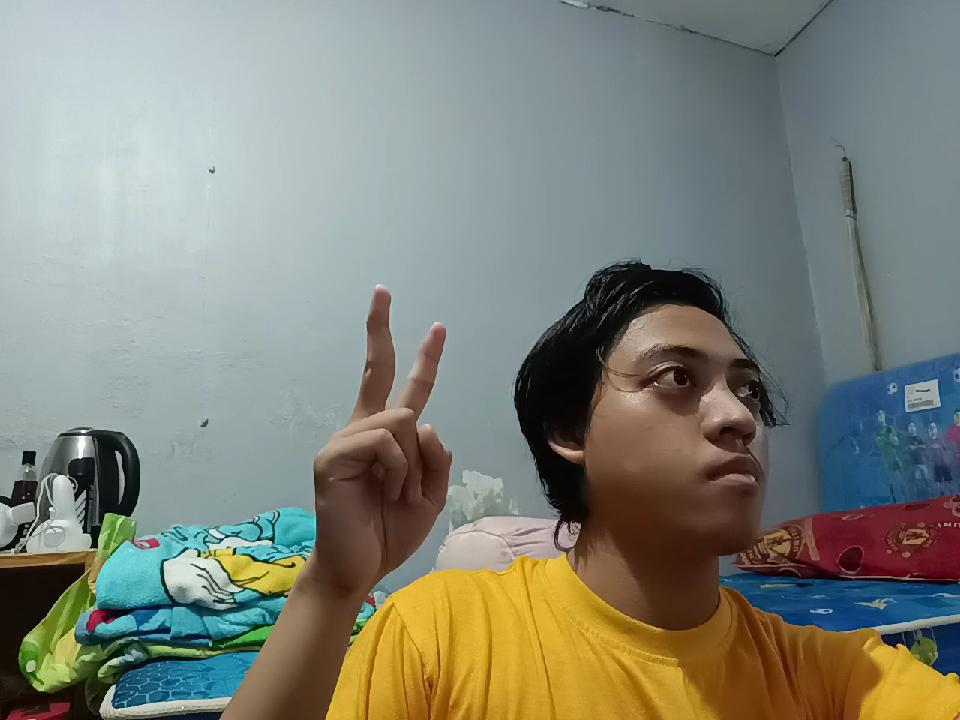scissors: (299, 280, 467, 572)
